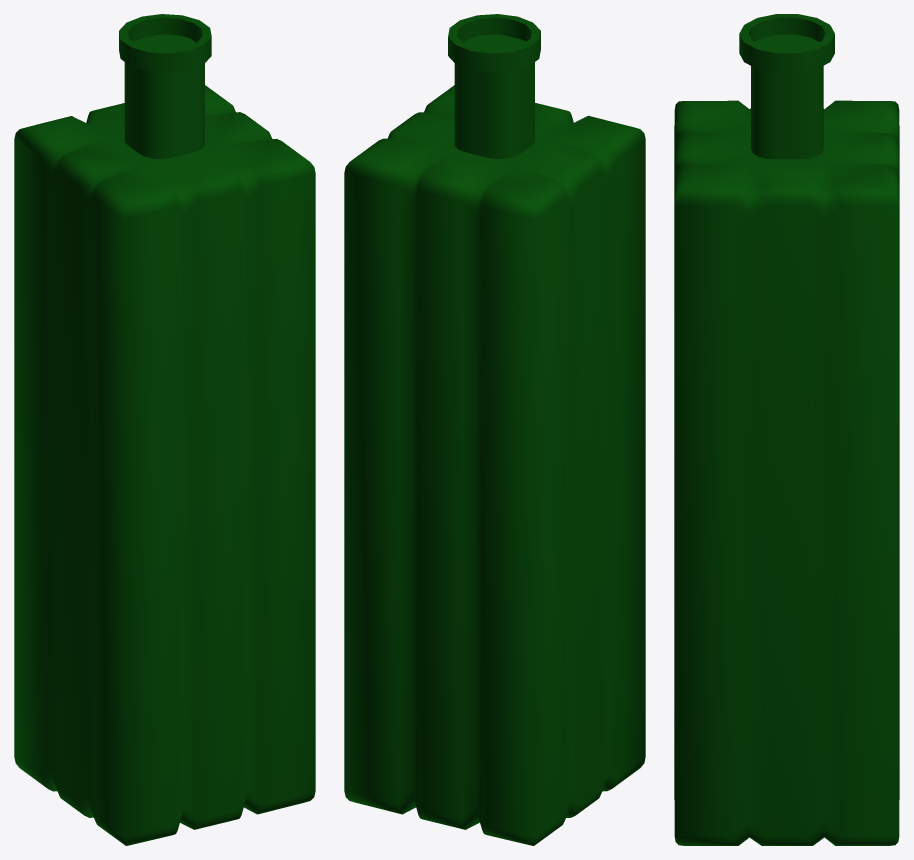
The model's file is bouteille huile cb (1).fbx.
3 renders of one model, left to right at view 1: azimuth 30°, elevation 25°; view 2: azimuth 150°, elevation 25°; view 3: azimuth 270°, elevation 25°, orthographic. The views are drawn at different scales.
Visible parts, largest first — view 1: Box001, Tube001; view 2: Box001, Tube001; view 3: Box001, Tube001.
Boxes of the visible parts, left/top/right/bottom form: Box001: left=14, top=34, right=315, bottom=845; Tube001: left=119, top=14, right=211, bottom=72; Box001: left=344, top=34, right=645, bottom=845; Tube001: left=448, top=14, right=540, bottom=72; Box001: left=674, top=34, right=899, bottom=845; Tube001: left=739, top=14, right=834, bottom=72.
Size of the model in its own units: 9.9 by 37.36 by 9.9.
